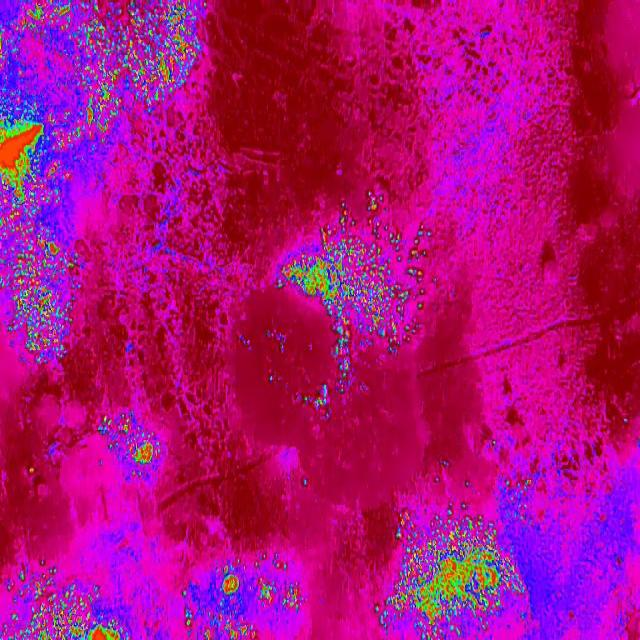fire: (0, 0, 98, 372), (278, 191, 436, 353), (378, 509, 528, 640), (97, 0, 209, 150), (0, 557, 142, 640), (180, 556, 304, 640), (97, 407, 165, 481), (303, 381, 332, 421), (331, 354, 354, 398)
